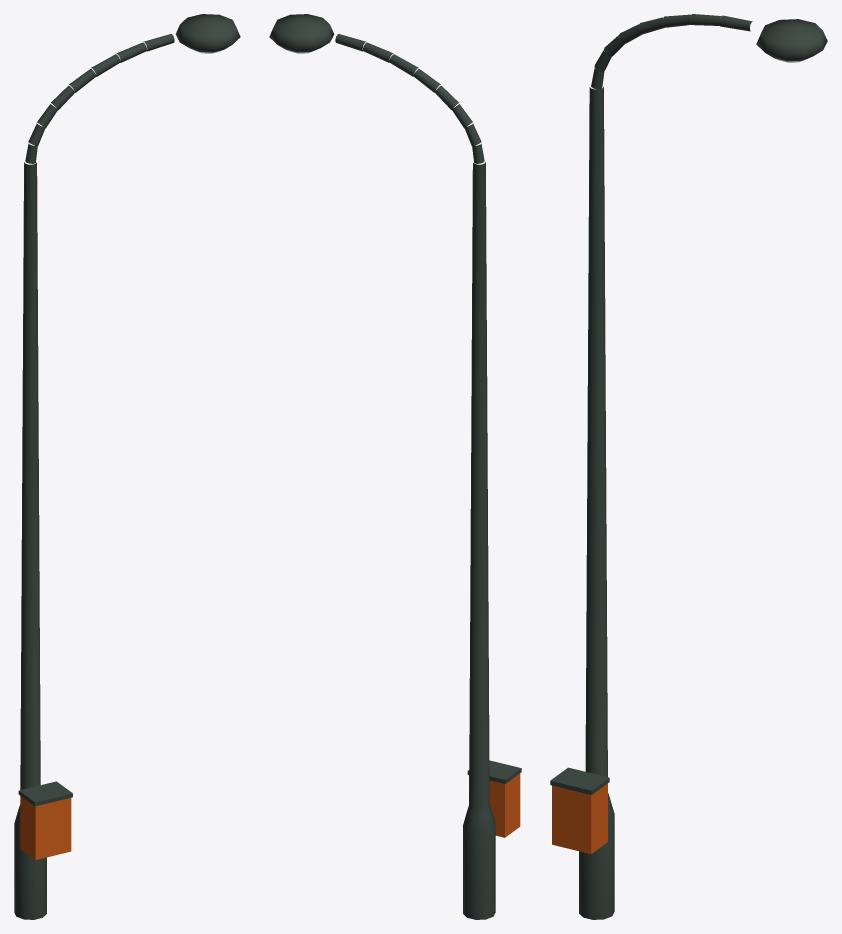
File: SM_lamp_bin.glb
3 renders of one model, left to right at view 1: azimuth 30°, elevation 25°; view 2: azimuth 150°, elevation 25°; view 3: azimuth 330°, elevation 25°, orthographic. The views are drawn at different scales.
Visible parts, largest first — view 1: SM_lamp_bin; view 2: SM_lamp_bin; view 3: SM_lamp_bin.
Part boxes in pixels (x1,y1,x2,y2): SM_lamp_bin: (14, 14, 240, 919); SM_lamp_bin: (269, 14, 521, 919); SM_lamp_bin: (550, 14, 827, 919).
Bounding box in the file's own units: 2.38 × 8.6 × 0.7153.
